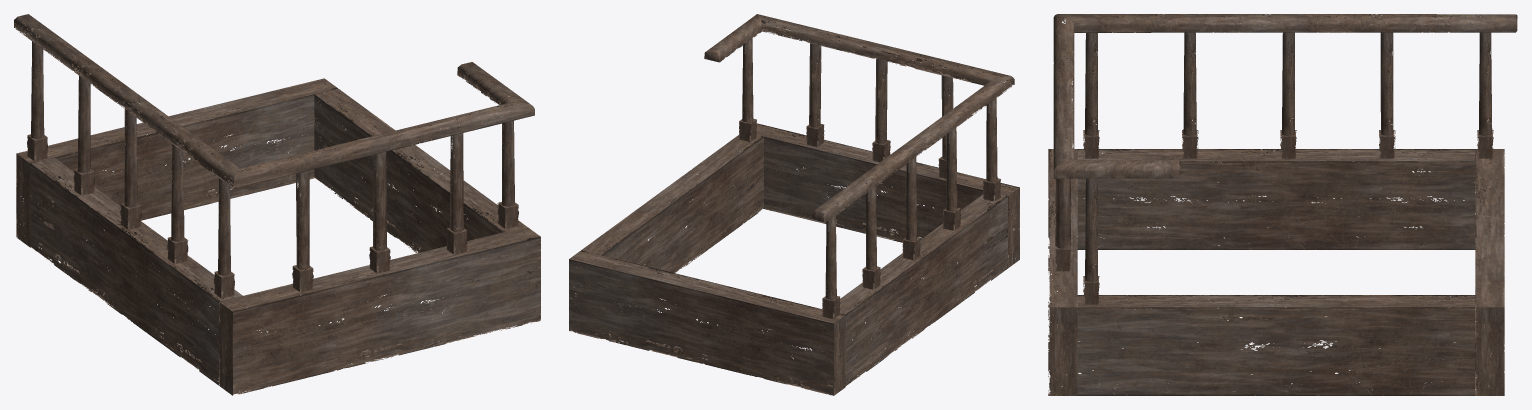
The model's file is SM_stairs_part_03.fbx.
3 views of the same model, side by side, from view 1: azimuth 30°, elevation 25°; view 2: azimuth 150°, elevation 25°; view 3: azimuth 270°, elevation 25° (orthographic). The views are drawn at different scales.
Parts seen in each view (by area): view 1: SM_stairs_part_03_LOD0; view 2: SM_stairs_part_03_LOD0; view 3: SM_stairs_part_03_LOD0.
Part boxes in pixels (x1,y1,x2,y2): SM_stairs_part_03_LOD0: (14,14,540,395); SM_stairs_part_03_LOD0: (569,14,1019,395); SM_stairs_part_03_LOD0: (1048,14,1517,395).
Size of the model in its own units: 230 by 288 by 154.
1 material, 1 textured.
